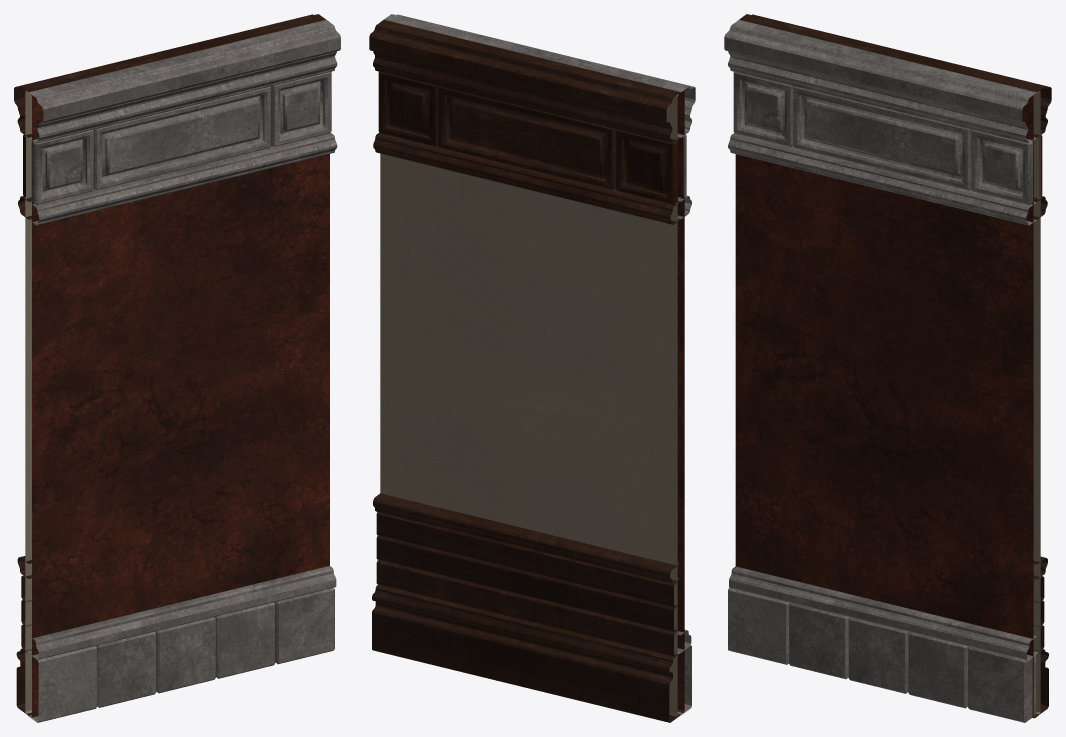
The model's file is SK6 WALL 1.fbx.
3 views of the same model, side by side, from view 1: azimuth 30°, elevation 25°; view 2: azimuth 150°, elevation 25°; view 3: azimuth 330°, elevation 25° (orthographic).
Visible parts, largest first — view 1: SK6 WALL 1; view 2: SK6 WALL 1; view 3: SK6 WALL 1.
Part boxes in pixels (x1,y1,x2,y2): SK6 WALL 1: (14, 14, 340, 722); SK6 WALL 1: (369, 14, 695, 722); SK6 WALL 1: (724, 14, 1051, 722).
Size of the model in its own units: 200 by 400 by 33.96.
